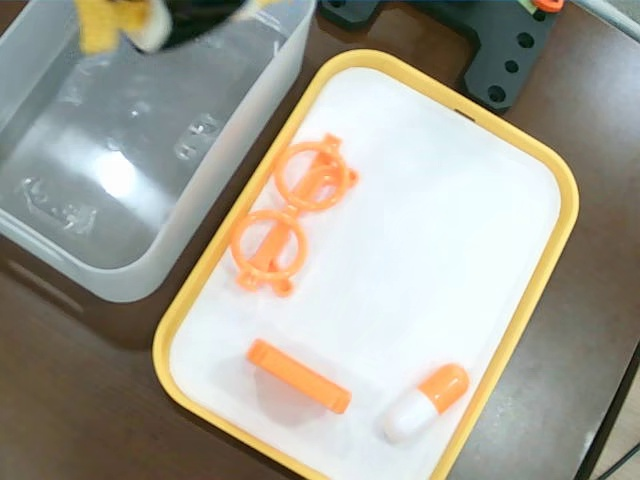pill: (380, 362, 469, 445)
